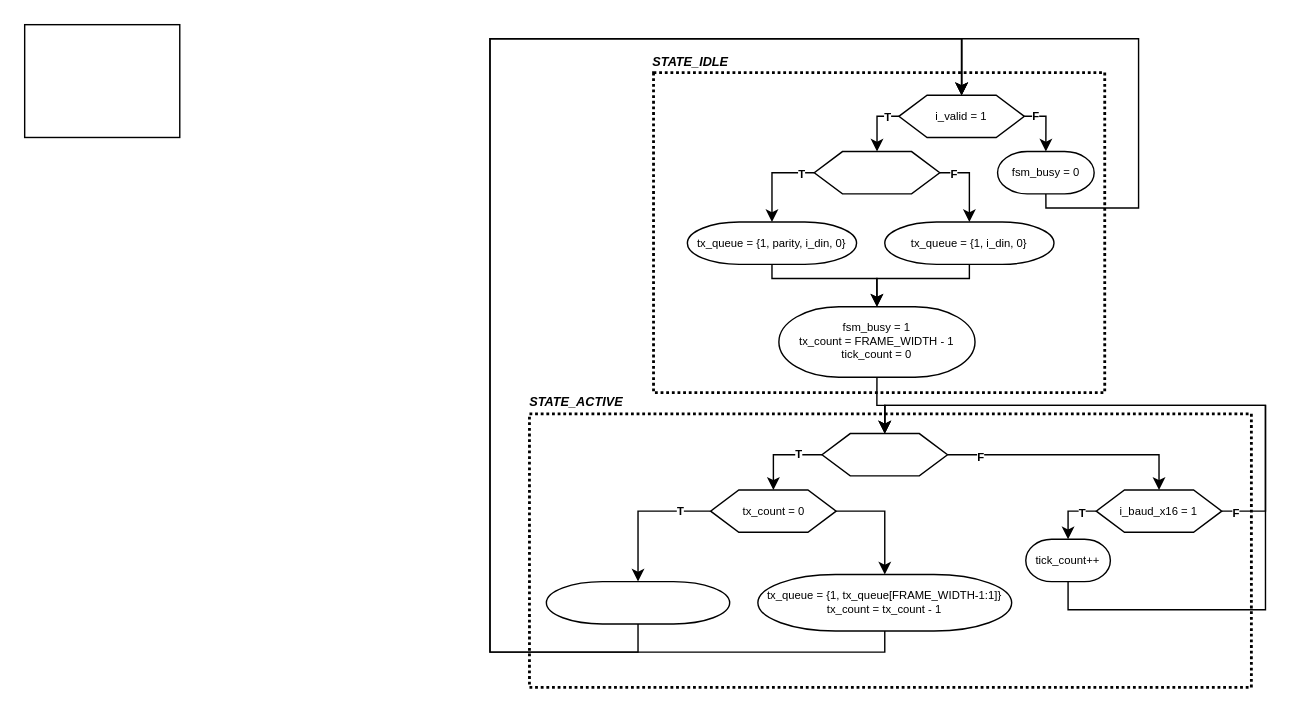
The diagram is 1301 pixels wide and 713 high, and some of its shapes have lost their labels. The shapes that lost their labels are listed below. From the top down, each one's centre as x and y in pixels, then its label:
point 101,80: fsm_busy = 0 tx_queue = {FRAME_WIDTH{1}} tx_count = 0 tick_count = 0
point 876,172: PARITY_EN = 1
point 884,454: tick_count = 16
point 637,602: tx_queue = {FRAME_WIDTH{1}}
